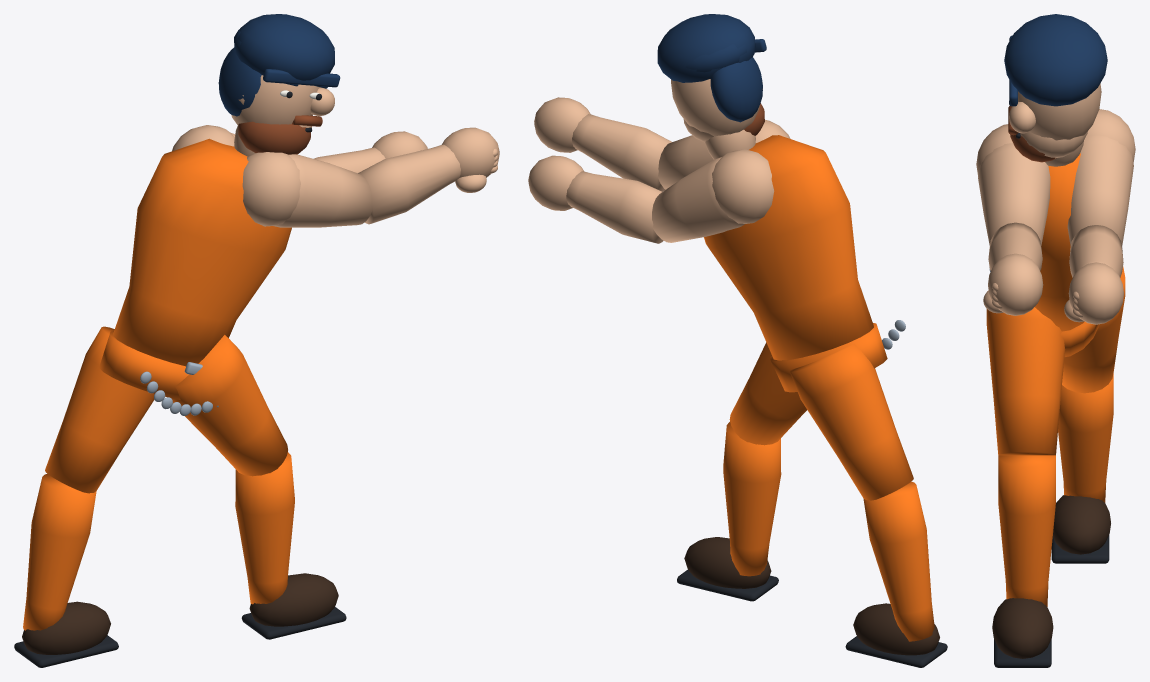
File: boris.glb
The picture shows the model from 3 angles, left to right: view 1: azimuth 30°, elevation 25°; view 2: azimuth 150°, elevation 25°; view 3: azimuth 270°, elevation 25°; orthographic projection. The views are drawn at different scales.
Parts seen in each view (by area): view 1: Fitted torso.009, Trouser thigh.018, Trouser thigh.019, Lower leg.019, Lower leg.018, Hat, Upper arm.018, Forearm.018, Rounded shoulder.018, Boot.018, Boot.019, Tailored waist.009 (+10 smaller); view 2: Fitted torso.009, Trouser thigh.019, Lower leg.019, Lower leg.018, Forearm.018, Forearm.019, Upper arm.019, Hat, Trouser thigh.018, Rounded shoulder.019, Hair back.006, Boot.018 (+10 smaller); view 3: Trouser thigh.018, Lower leg.018, Hat, Lower leg.019, Upper arm.018, Upper arm.019, Fitted torso.009, Boot.018, Trouser thigh.019, Boot.019, Closed fist.019, Closed fist.018 (+12 smaller).
Boxes of the visible parts, x1=… form: Fitted torso.009: x1=113, y1=138, x2=291, y2=366; Trouser thigh.018: x1=171, y1=335, x2=287, y2=476; Trouser thigh.019: x1=45, y1=326, x2=154, y2=493; Lower leg.019: x1=23, y1=473, x2=96, y2=630; Lower leg.018: x1=235, y1=452, x2=294, y2=604; Hat: x1=235, y1=14, x2=334, y2=80; Upper arm.018: x1=274, y1=154, x2=372, y2=227; Forearm.018: x1=358, y1=144, x2=460, y2=224; Rounded shoulder.018: x1=242, y1=152, x2=300, y2=226; Boot.018: x1=249, y1=573, x2=338, y2=626; Boot.019: x1=22, y1=601, x2=110, y2=654; Tailored waist.009: x1=99, y1=331, x2=188, y2=399; Fitted torso.009: x1=704, y1=135, x2=873, y2=360; Trouser thigh.019: x1=789, y1=343, x2=913, y2=500; Lower leg.019: x1=863, y1=481, x2=934, y2=641; Lower leg.018: x1=723, y1=421, x2=781, y2=576; Forearm.018: x1=572, y1=114, x2=671, y2=191; Forearm.019: x1=566, y1=171, x2=663, y2=243; Upper arm.019: x1=652, y1=157, x2=744, y2=242; Hat: x1=657, y1=14, x2=755, y2=82; Trouser thigh.018: x1=729, y1=342, x2=806, y2=445; Rounded shoulder.019: x1=712, y1=149, x2=774, y2=223; Hair back.006: x1=710, y1=57, x2=762, y2=122; Boot.018: x1=684, y1=537, x2=771, y2=588; Trouser thigh.018: x1=986, y1=290, x2=1065, y2=455; Lower leg.018: x1=998, y1=455, x2=1055, y2=606; Hat: x1=1004, y1=14, x2=1107, y2=106; Lower leg.019: x1=1058, y1=373, x2=1113, y2=502; Upper arm.018: x1=978, y1=143, x2=1050, y2=245; Upper arm.019: x1=1067, y1=135, x2=1133, y2=246; Fitted torso.009: x1=1035, y1=153, x2=1084, y2=331; Boot.018: x1=992, y1=598, x2=1053, y2=658; Trouser thigh.019: x1=1062, y1=266, x2=1125, y2=393; Boot.019: x1=1052, y1=495, x2=1110, y2=554; Closed fist.019: x1=1068, y1=262, x2=1123, y2=324; Closed fist.018: x1=988, y1=253, x2=1043, y2=315.
Bounding box in the file's own units: 127 × 163 × 37.26.
